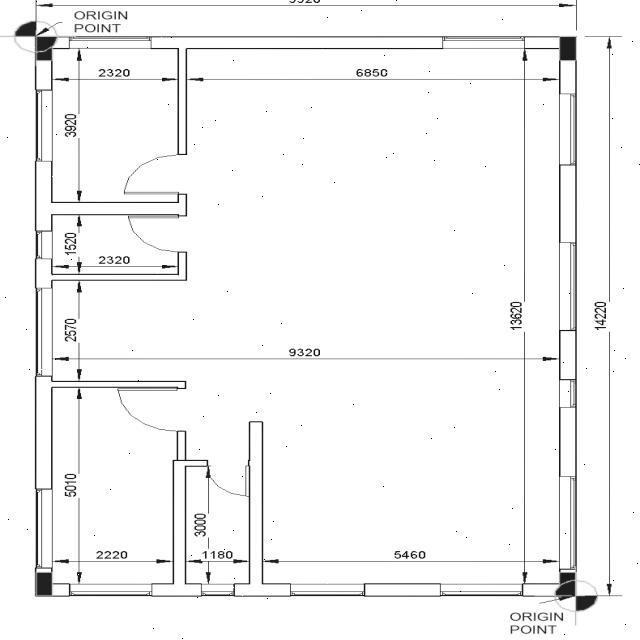Column: (34, 572, 52, 596), (560, 36, 576, 60), (560, 572, 576, 596), (36, 36, 52, 60)
Door: (118, 388, 186, 432), (124, 154, 188, 195), (128, 216, 187, 252), (208, 459, 248, 496)
Window: (559, 476, 577, 570), (559, 242, 577, 330), (34, 288, 52, 376), (34, 489, 52, 568), (559, 94, 577, 165), (34, 90, 52, 161), (440, 583, 522, 597), (70, 583, 152, 597), (290, 583, 364, 597), (70, 36, 152, 48), (442, 36, 524, 48), (559, 380, 577, 408), (34, 231, 52, 259), (201, 583, 234, 597)
